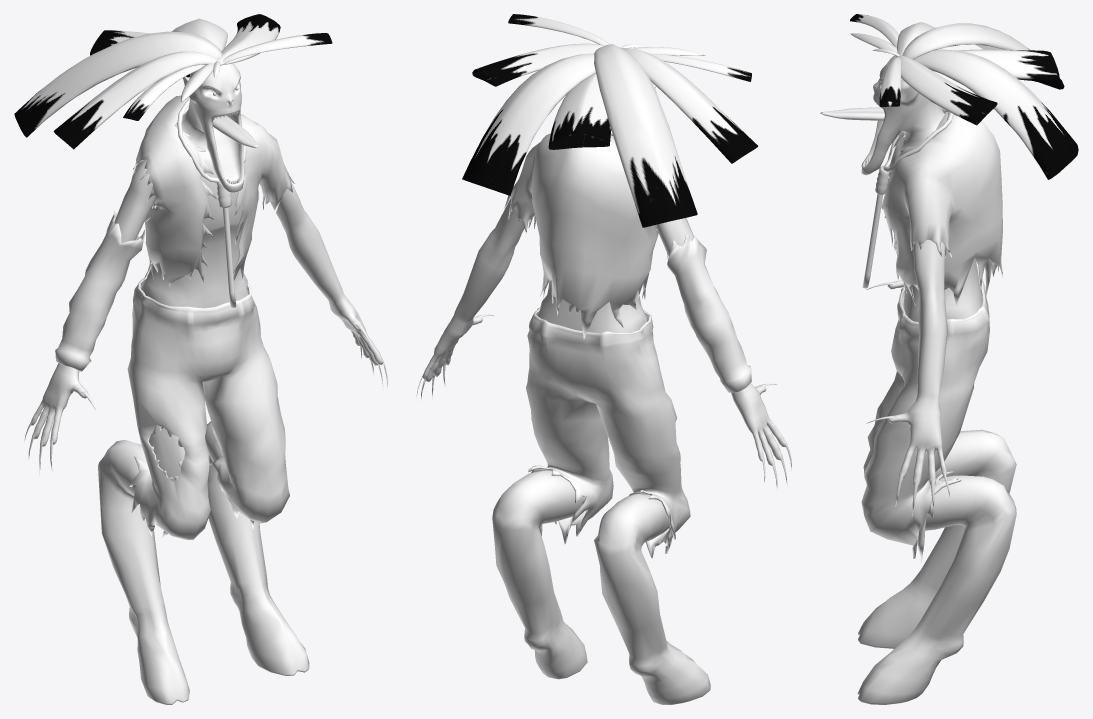
Rendered from receptáculo 1.fbx.
3 views of the same model, side by side, from view 1: azimuth 30°, elevation 25°; view 2: azimuth 150°, elevation 25°; view 3: azimuth 270°, elevation 25° (orthographic). The views are drawn at different scales.
Parts seen in each view (by area): view 1: Receptáculo; view 2: Receptáculo; view 3: Receptáculo.
Boxes of the visible parts, x1,y1,x2,y2 form: Receptáculo: [14, 14, 387, 704]; Receptáculo: [416, 14, 791, 704]; Receptáculo: [820, 14, 1078, 704].
Size of the model in its own units: 107 by 188 by 69.72.
